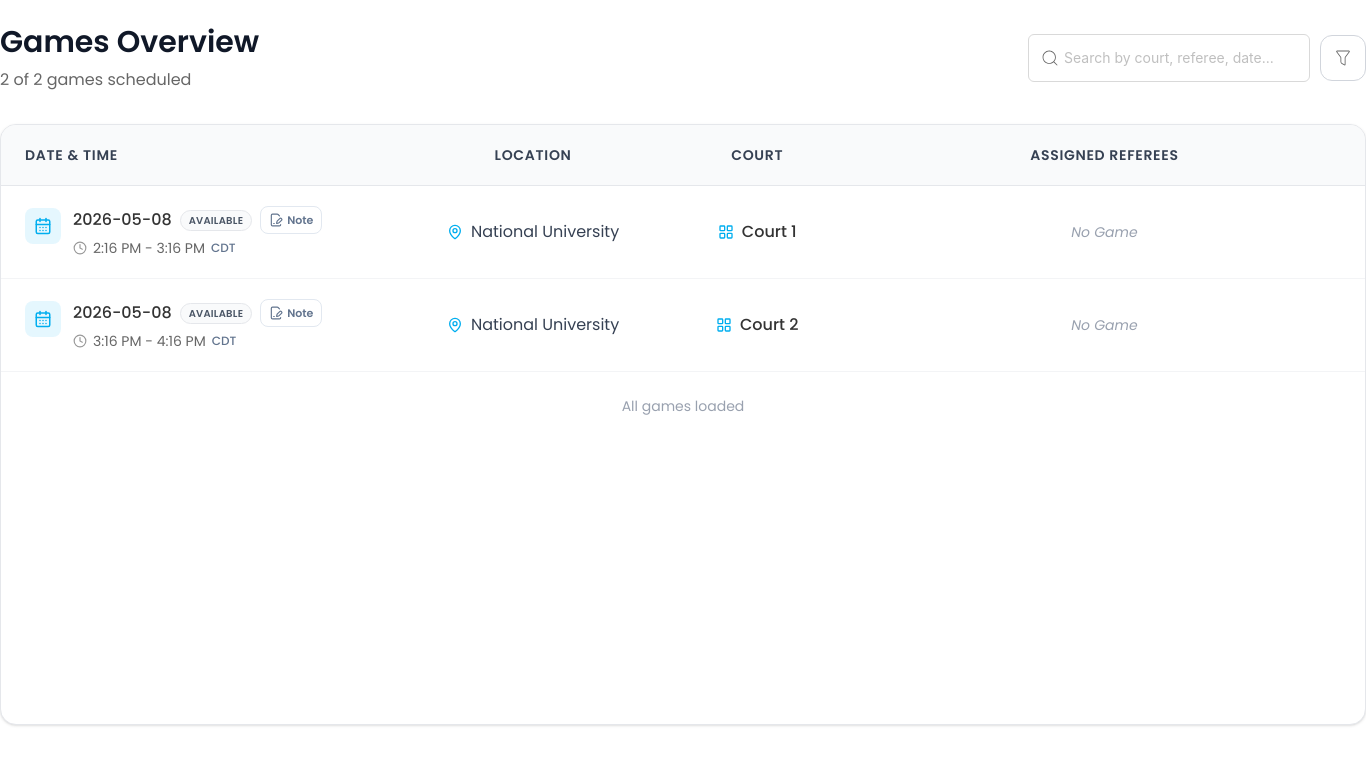
it: Evaluator game notes › keeps the draft visible when saving fails and allows retry
The width and height of the screenshot is (1366, 768).
Step 1. Click the button with aria-label "Add evaluator note for Court 1" → (291, 220), box [260, 206, 322, 234]
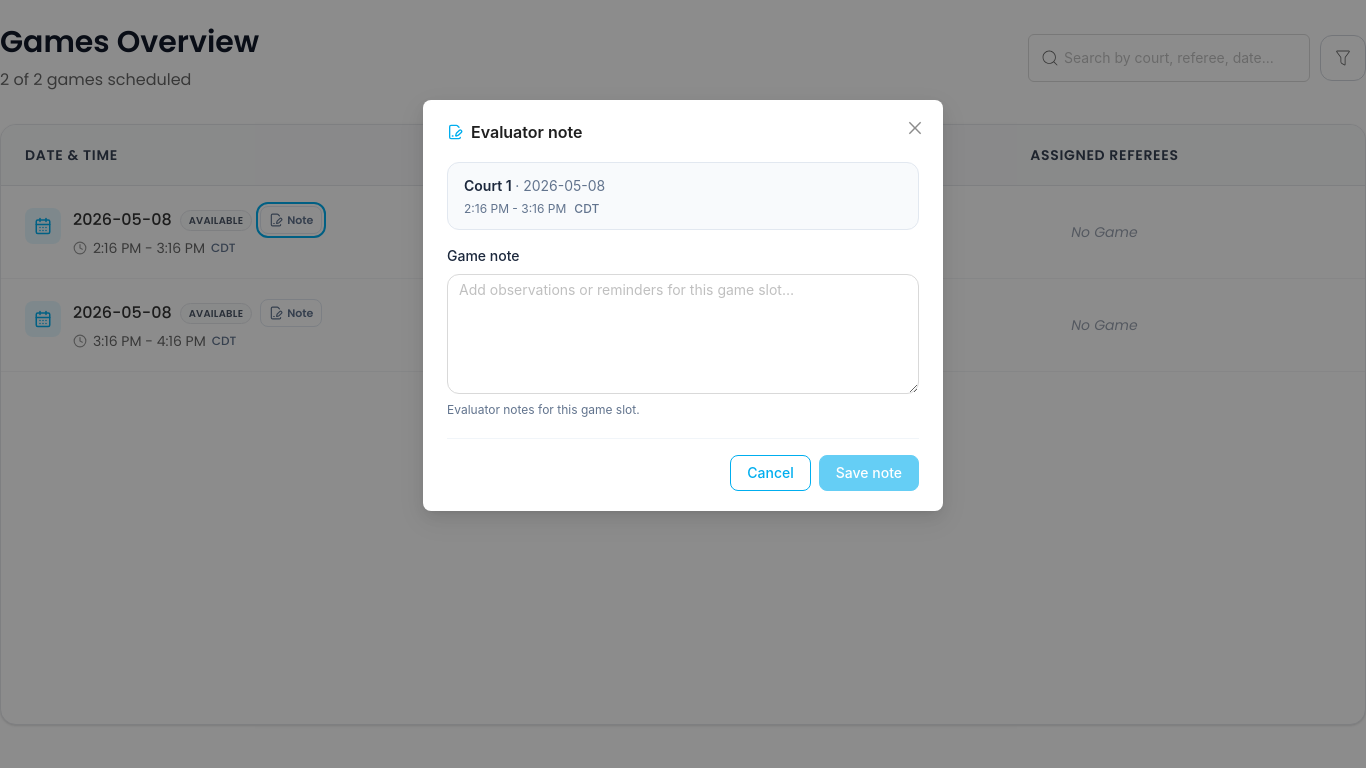
Step 2. Type "Keep my draft" into the text box labelled "Game note" → (683, 334), box [447, 274, 919, 394]
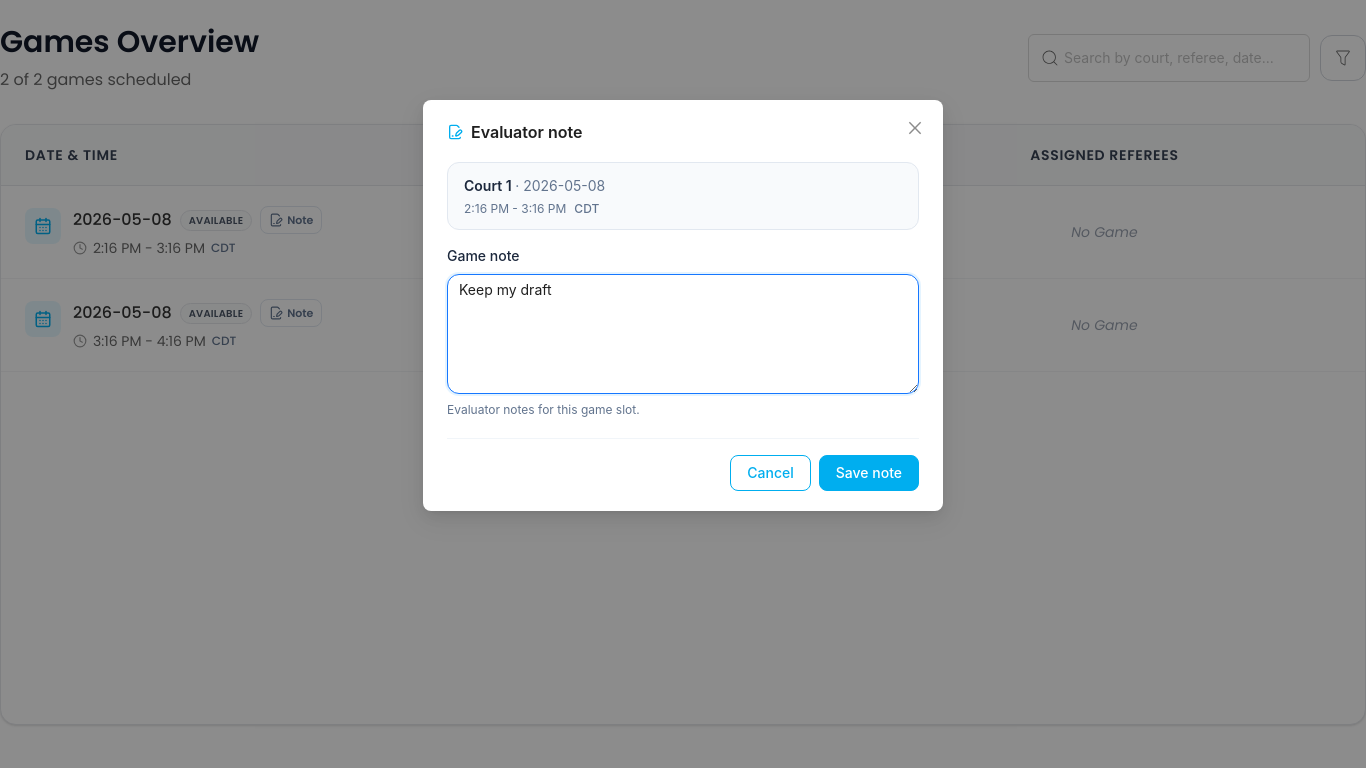
Step 3. Click the button "Save note" → (869, 473), box [819, 455, 919, 491]
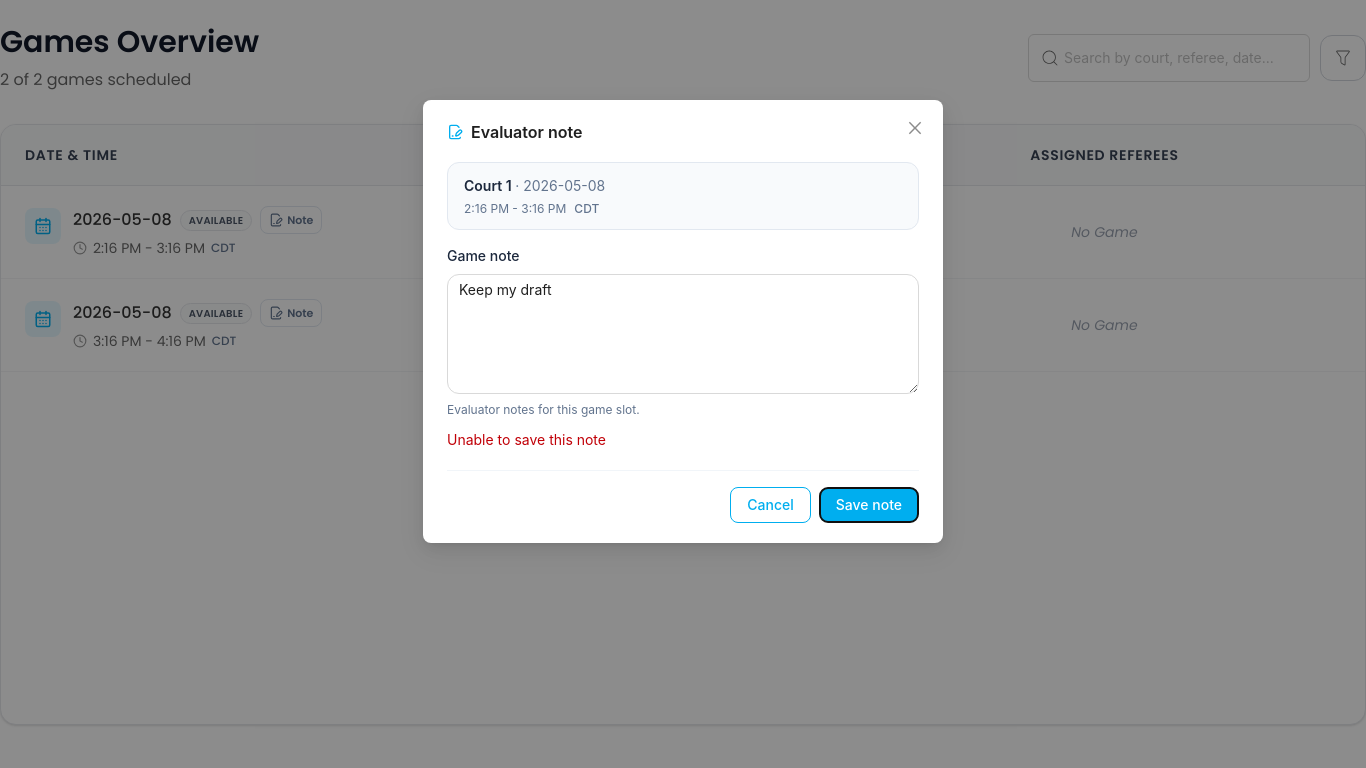
Check: the message reads "Unable to save this note", box [447, 431, 606, 448]
Step 4. Click the button "Save note" → (869, 505), box [819, 487, 919, 523]
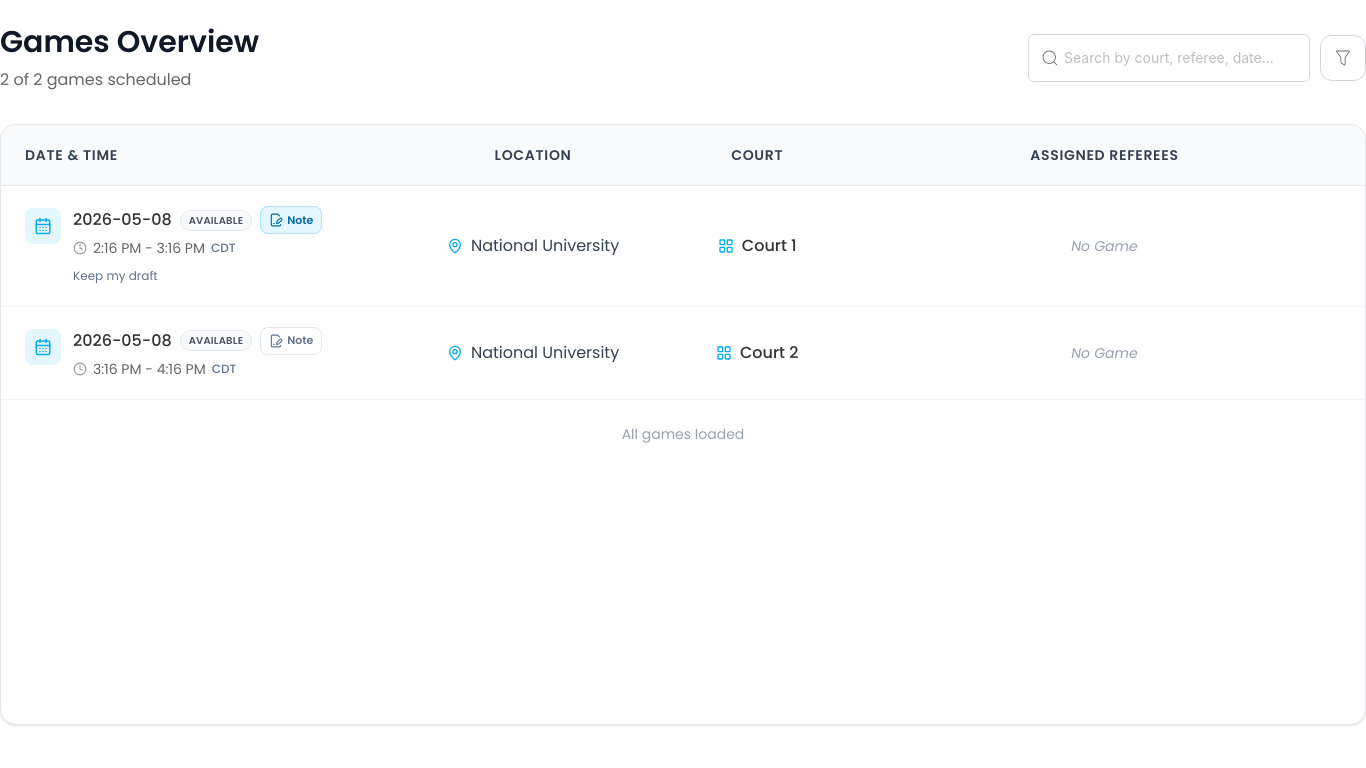
Check: the dialog "Evaluator note" is gone
